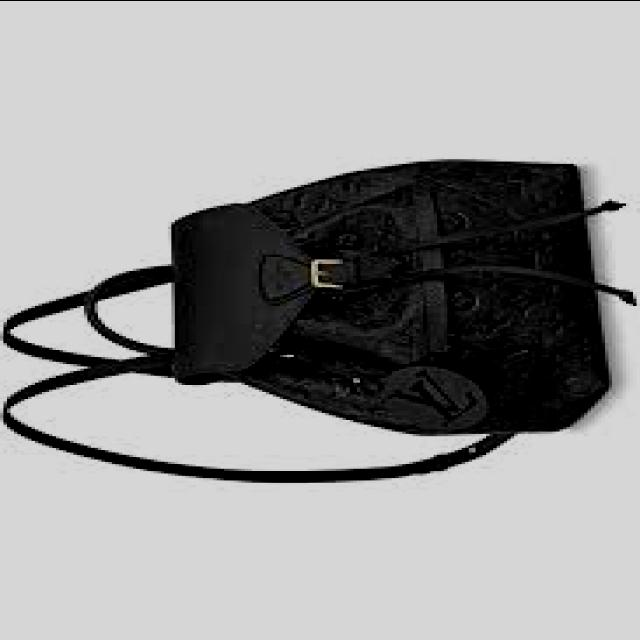backpack: (1, 159, 634, 485)
